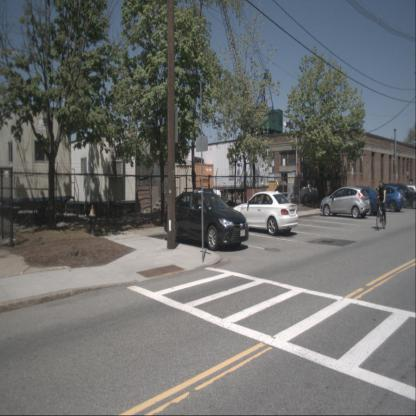vehicle-bicycle: (376, 180, 387, 231)
vehicle-car: (163, 192, 249, 251), (230, 191, 299, 236), (320, 187, 371, 218), (341, 186, 383, 216), (370, 185, 407, 213), (380, 183, 415, 209)
